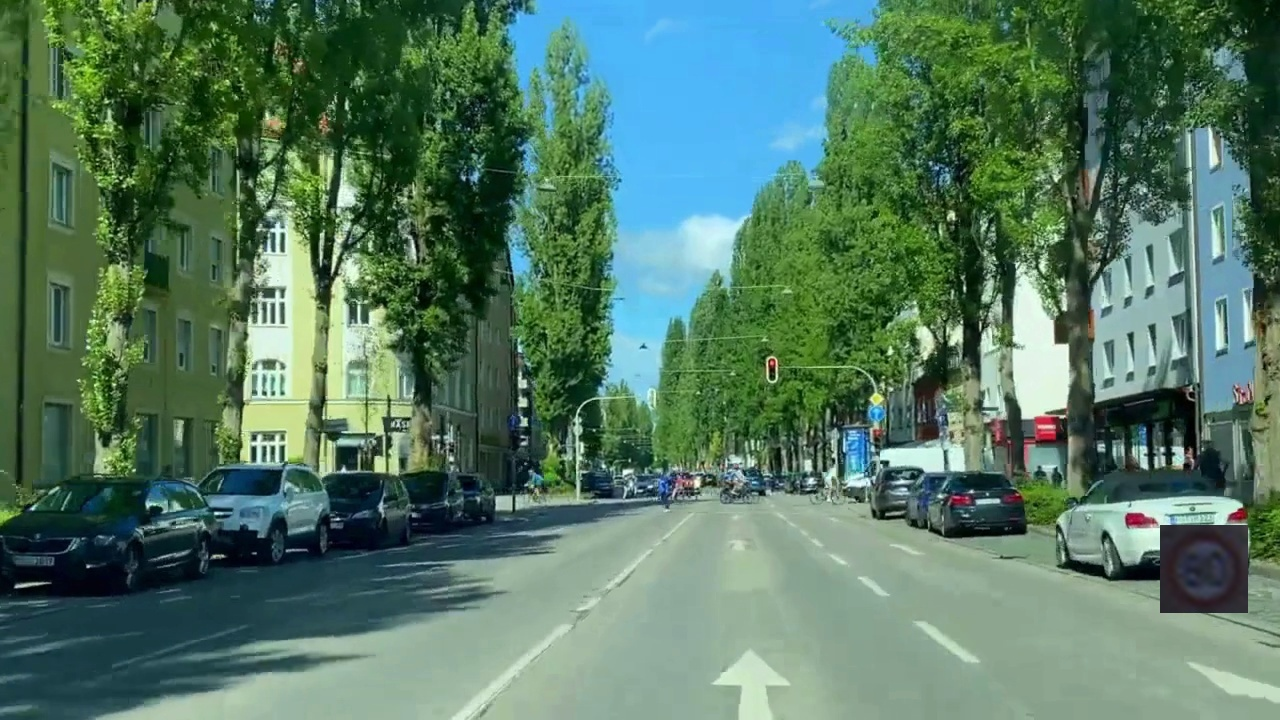Speed 80: (1160, 525, 1248, 613)
